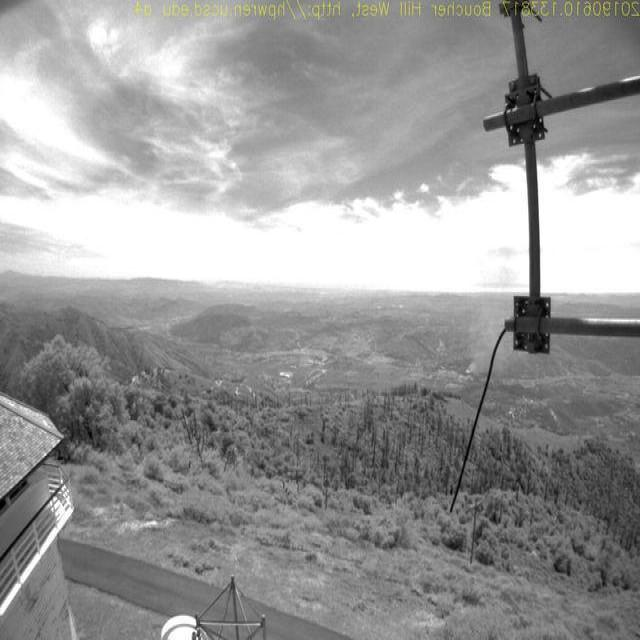Smoke: (463, 253, 517, 380)
